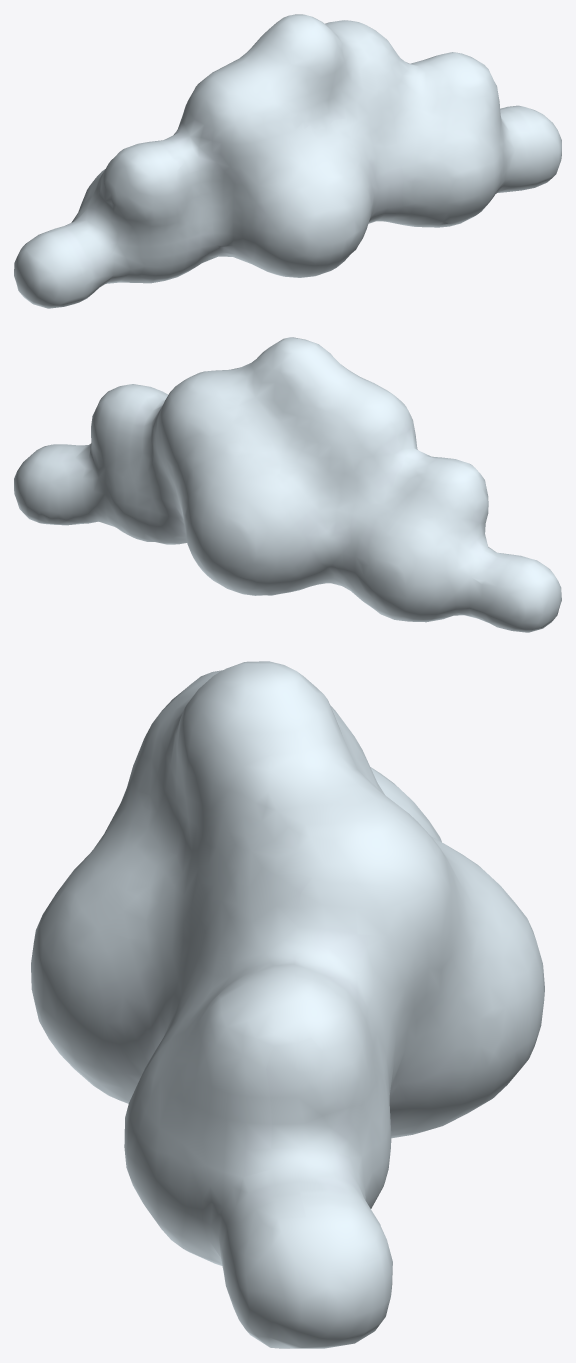
File: cloud_a.glb
The picture shows the model from 3 angles, top to bottom: view 1: azimuth 30°, elevation 25°; view 2: azimuth 150°, elevation 25°; view 3: azimuth 270°, elevation 25°; orthographic projection. The views are drawn at different scales.
Parts seen in each view (by area): view 1: cloud_a; view 2: cloud_a; view 3: cloud_a.
Boxes of the visible parts, x1,y1,x2,y2 form: cloud_a: [14, 14, 561, 308]; cloud_a: [14, 337, 561, 632]; cloud_a: [31, 661, 544, 1348].
Bounding box in the file's own units: 4.66 × 1.85 × 1.96.
1 material, 1 textured.
